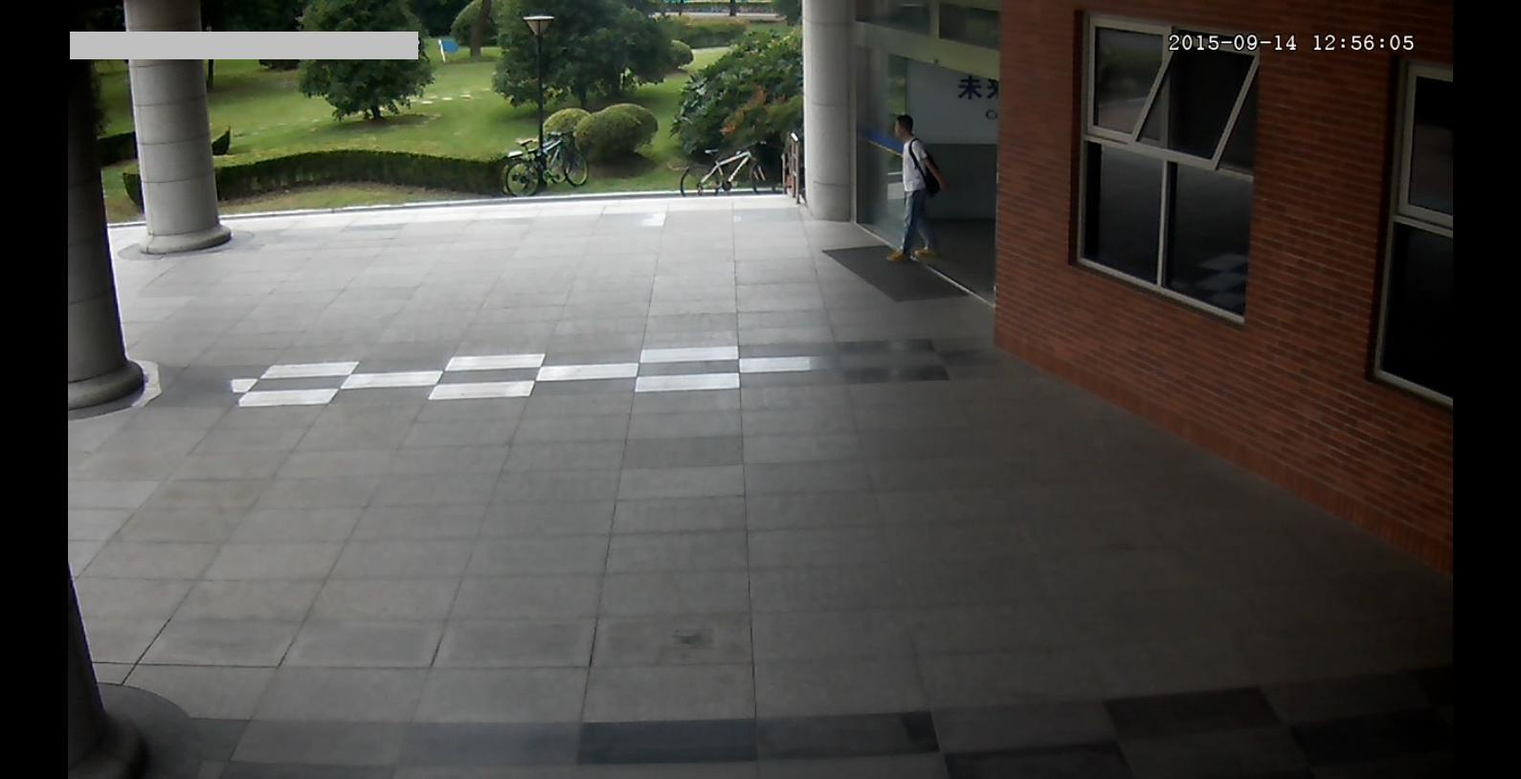person: (884, 100, 965, 284)
